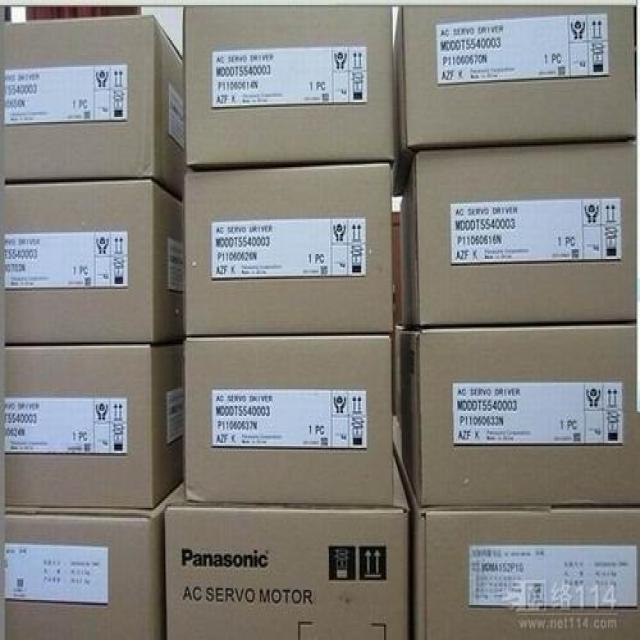box: (392, 6, 637, 195), (164, 457, 409, 638), (400, 456, 639, 638), (400, 141, 636, 325), (400, 324, 638, 505), (184, 335, 393, 506), (183, 163, 392, 334), (182, 6, 395, 170), (5, 16, 185, 201), (5, 343, 185, 508), (5, 180, 185, 344), (7, 489, 175, 638)
